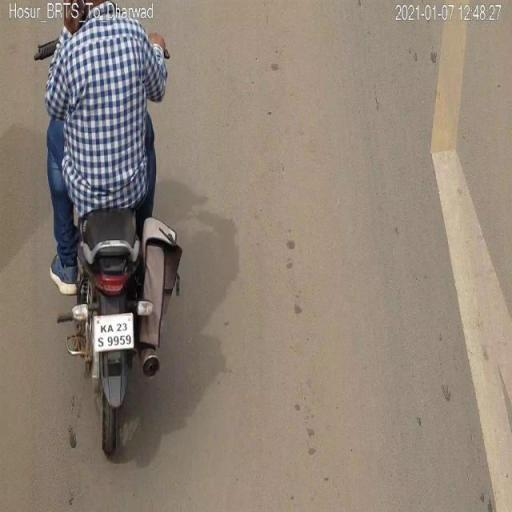numberplate: (92, 313, 134, 349)
using mobile: (61, 1, 87, 36)
